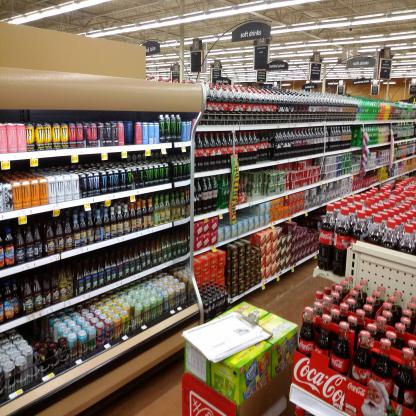Void: (305, 214, 316, 230), (237, 210, 252, 215)
